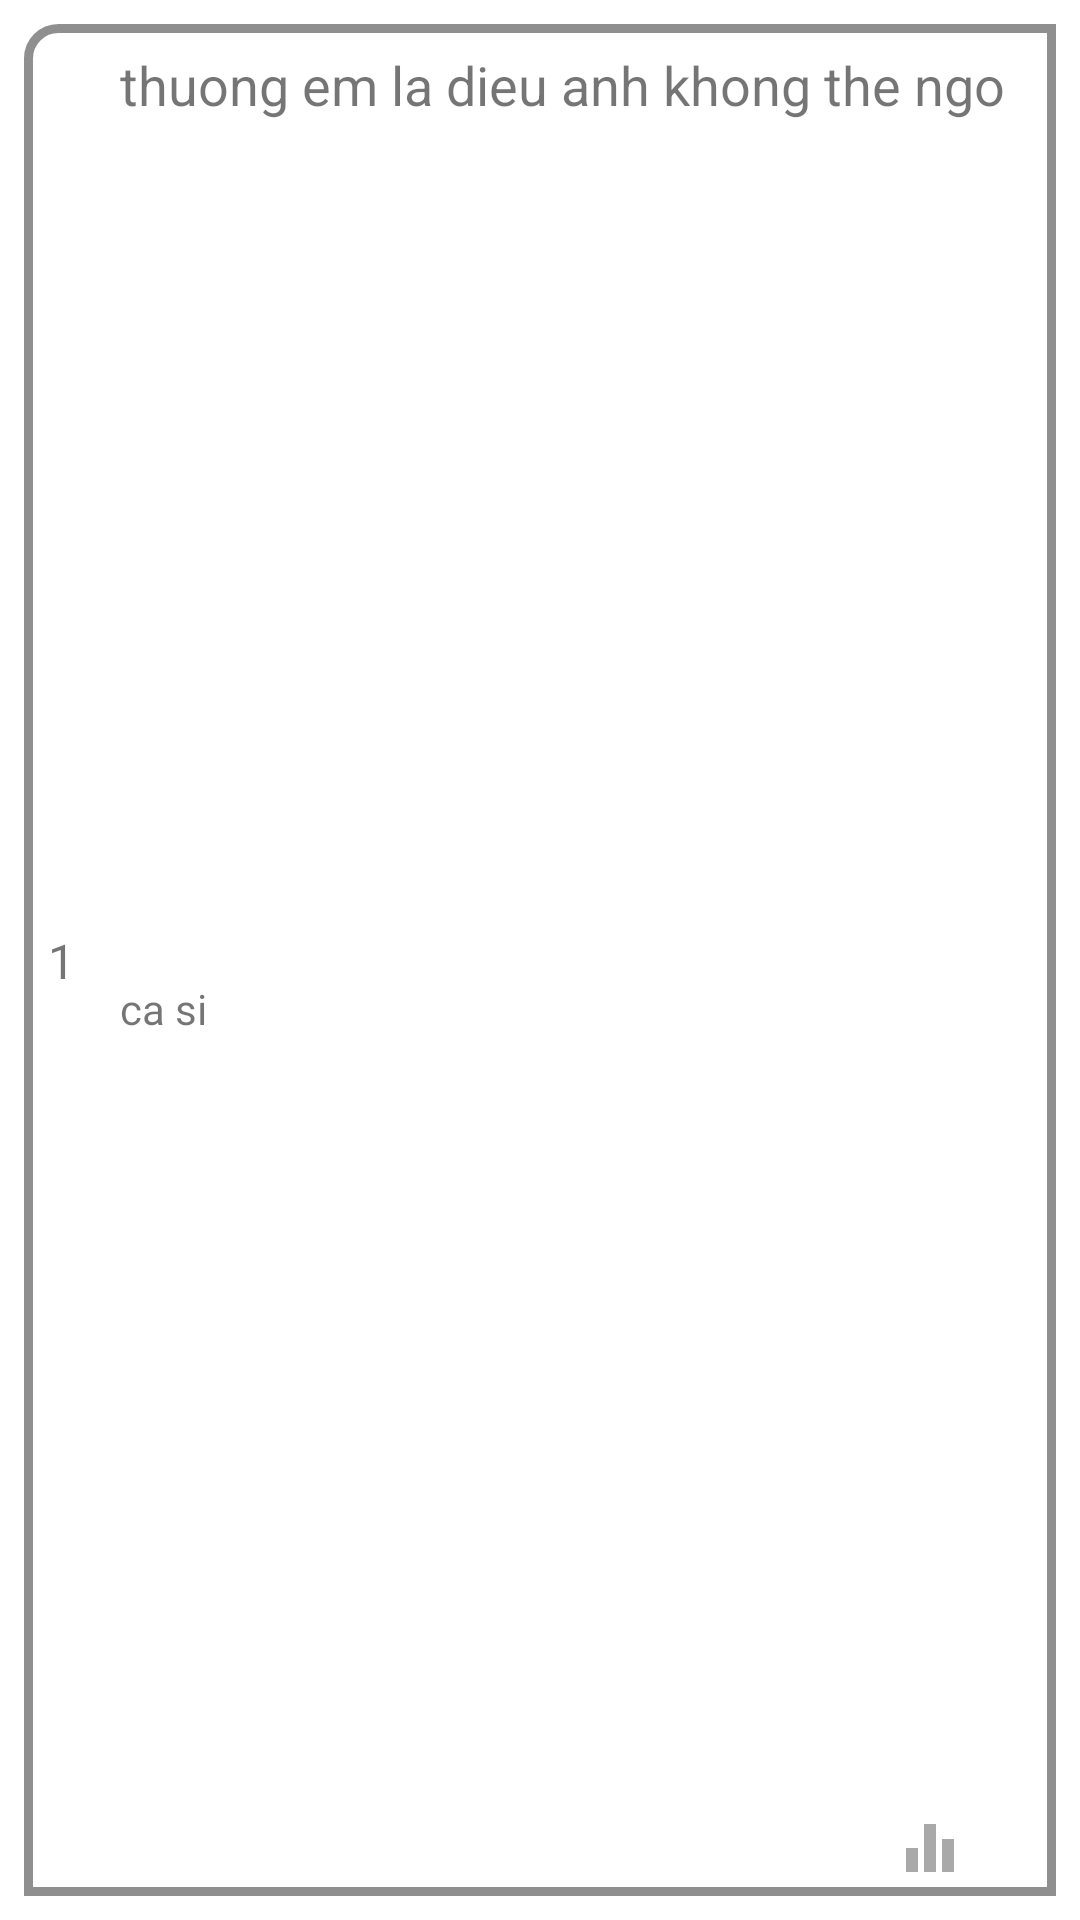

Where to tap for icons on this 1080px x 1920px app screen, as point (x, y):
equalizer: point (930, 1848)
